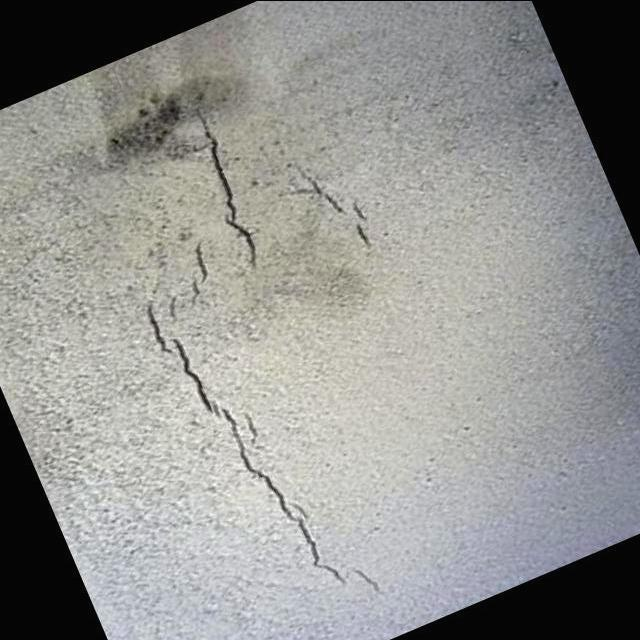defect: (142, 237, 385, 593), (192, 102, 260, 266), (302, 171, 378, 249)
